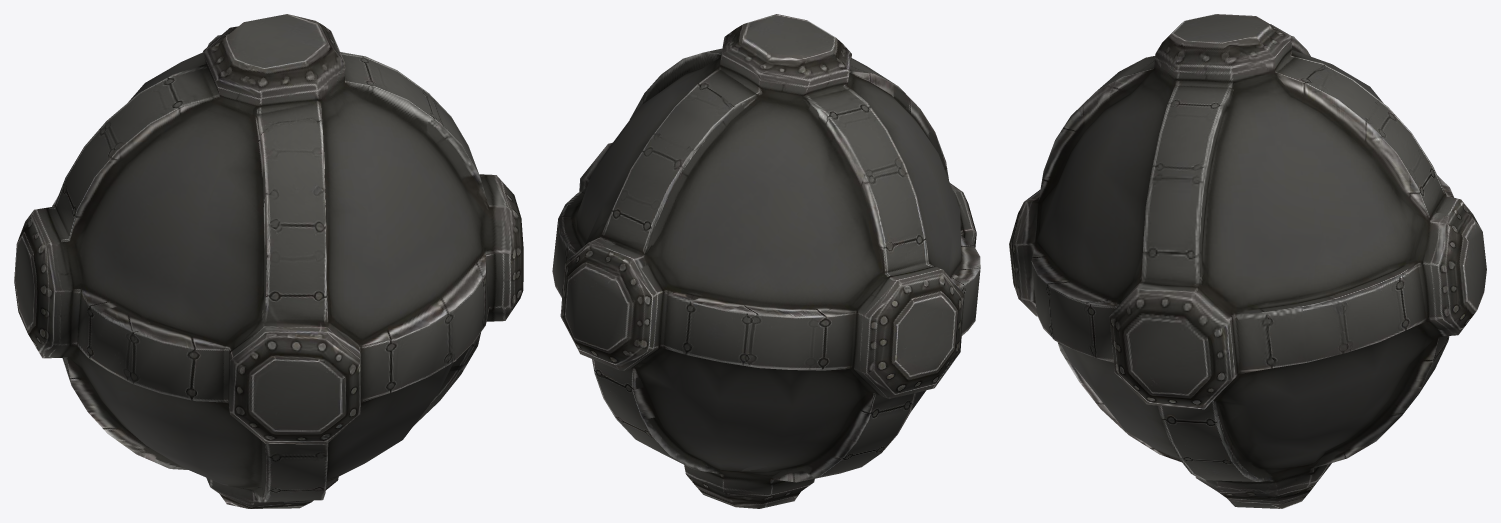
Rendered from cold-iron-v2-hub-c-ring-cage.glb.
The picture shows the model from 3 angles, left to right: view 1: azimuth 30°, elevation 25°; view 2: azimuth 150°, elevation 25°; view 3: azimuth 270°, elevation 25°; orthographic projection. The views are drawn at different scales.
Visible parts, largest first — view 1: tripo_node_4419bbbe-5158-4fc2-ba31-86437907570d; view 2: tripo_node_4419bbbe-5158-4fc2-ba31-86437907570d; view 3: tripo_node_4419bbbe-5158-4fc2-ba31-86437907570d.
Boxes of the visible parts, left/top/right/bottom form: tripo_node_4419bbbe-5158-4fc2-ba31-86437907570d: left=14, top=14, right=523, bottom=508; tripo_node_4419bbbe-5158-4fc2-ba31-86437907570d: left=552, top=14, right=980, bottom=508; tripo_node_4419bbbe-5158-4fc2-ba31-86437907570d: left=1009, top=14, right=1486, bottom=508.
Bounding box in the file's own units: 0.9476 × 1 × 0.9342.
1 material, 1 textured.
